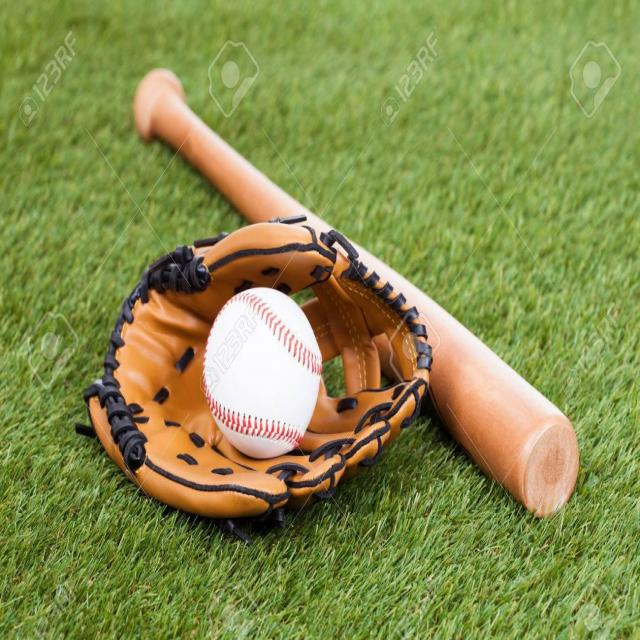baseball: (202, 284, 321, 459)
